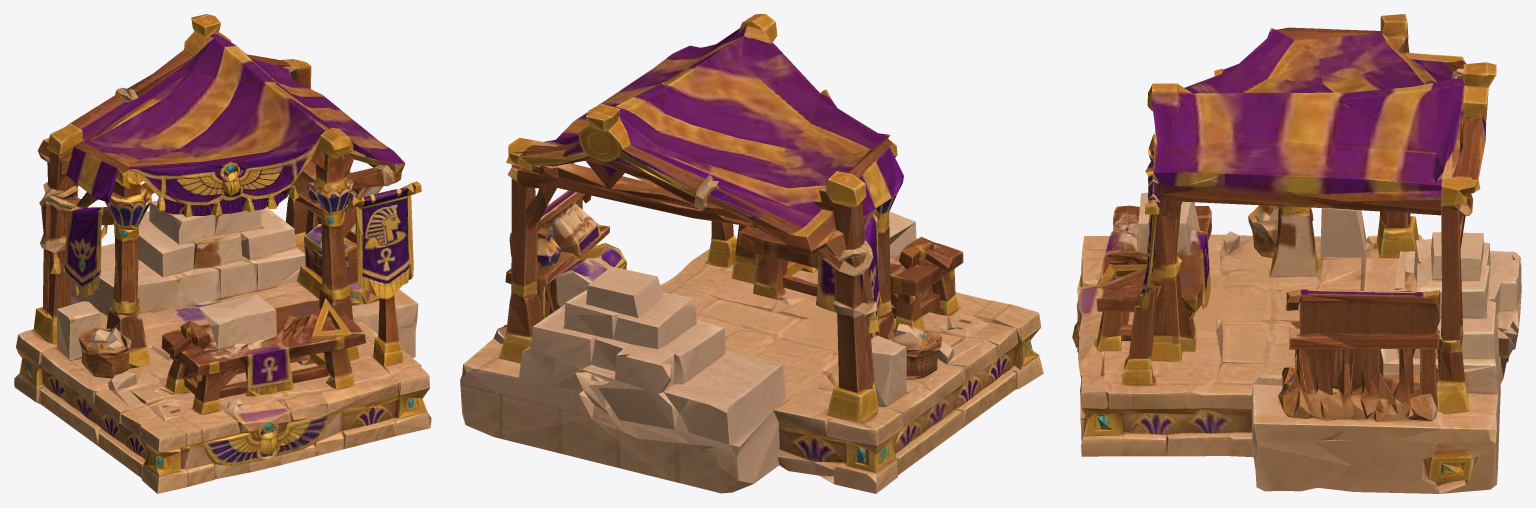
File: mason.glb
The picture shows the model from 3 angles, left to right: view 1: azimuth 30°, elevation 25°; view 2: azimuth 150°, elevation 25°; view 3: azimuth 270°, elevation 25°; orthographic projection. The views are drawn at different scales.
Size of the model in its own units: 1.9 by 1.63 by 1.85.
1 material, 1 textured.
